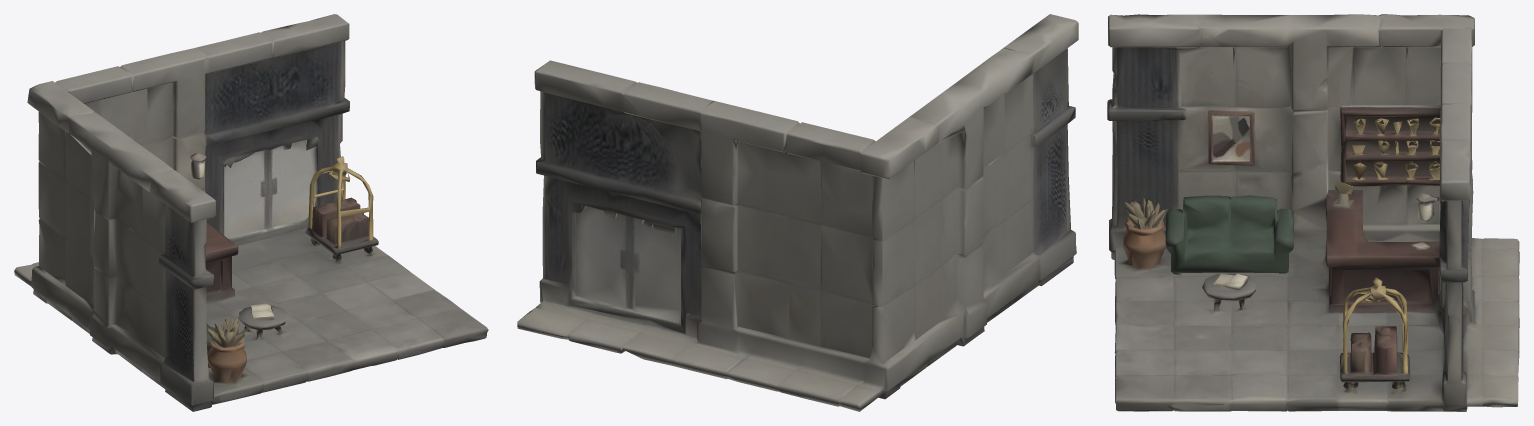
Rendered from hotel_interior.glb.
The picture shows the model from 3 angles, left to right: view 1: azimuth 30°, elevation 25°; view 2: azimuth 150°, elevation 25°; view 3: azimuth 270°, elevation 25°; orthographic projection. The views are drawn at different scales.
Visible parts, largest first — view 1: tripo_node_8dae74ac-bccb-49ba-952e-0a4925f364a6; view 2: tripo_node_8dae74ac-bccb-49ba-952e-0a4925f364a6; view 3: tripo_node_8dae74ac-bccb-49ba-952e-0a4925f364a6.
Part boxes in pixels (x1,y1,x2,y2): tripo_node_8dae74ac-bccb-49ba-952e-0a4925f364a6: (14,14,488,411); tripo_node_8dae74ac-bccb-49ba-952e-0a4925f364a6: (517,14,1078,411); tripo_node_8dae74ac-bccb-49ba-952e-0a4925f364a6: (1107,14,1519,411).
Bounding box in the file's own units: 0.9768 × 0.6284 × 1.
1 material, 1 textured.
